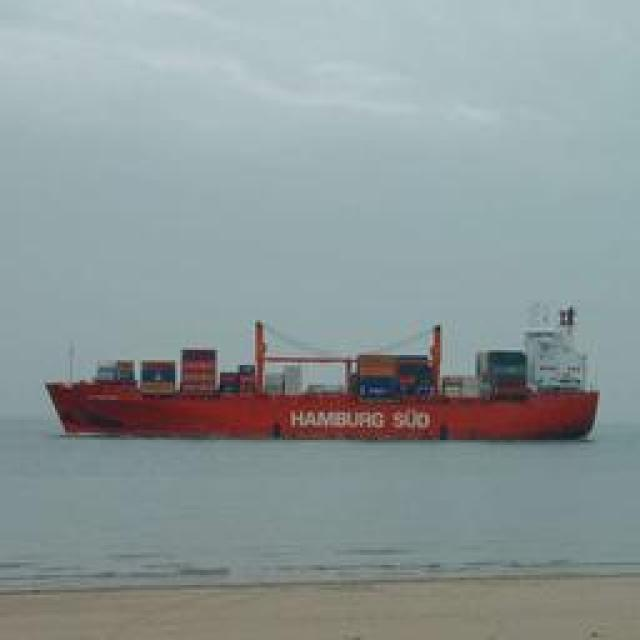CIV_Ship: (44, 305, 598, 445)
